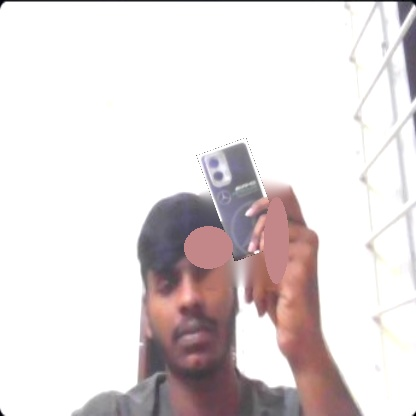cell_phone: (196, 137, 284, 261)
